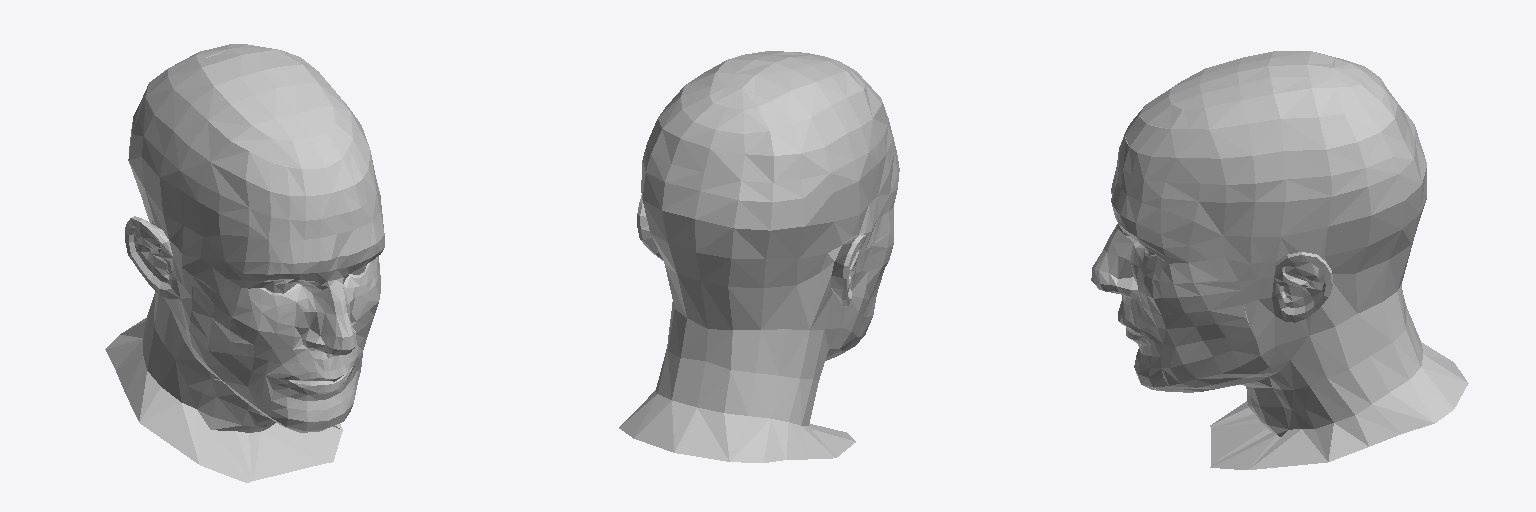
The model's file is jaffa_head.obj.
3 renders of one model, left to right at view 1: azimuth 30°, elevation 25°; view 2: azimuth 150°, elevation 25°; view 3: azimuth 270°, elevation 25°, orthographic.
Visible parts, largest first — view 1: Soldier.jaffa_ref.smd.mesh_6; view 2: Soldier.jaffa_ref.smd.mesh_6; view 3: Soldier.jaffa_ref.smd.mesh_6.
Boxes of the visible parts, box(x1,y1,x2,y2) form: Soldier.jaffa_ref.smd.mesh_6: box(105, 44, 384, 482); Soldier.jaffa_ref.smd.mesh_6: box(619, 51, 899, 462); Soldier.jaffa_ref.smd.mesh_6: box(1091, 51, 1468, 469).
Size of the model in its own units: 7.34 by 12.49 by 11.18.